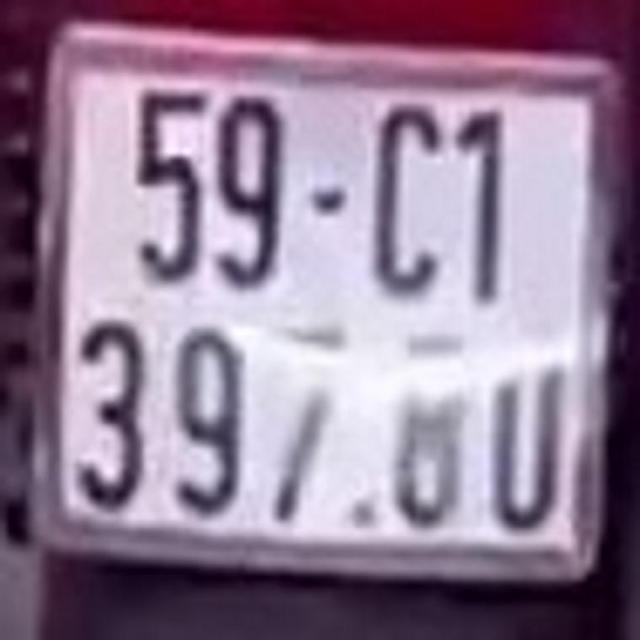0: (487, 309, 572, 542)
1: (448, 81, 526, 322)
3: (66, 297, 150, 514)
5: (126, 67, 212, 290)
7: (264, 310, 352, 535)
8: (392, 320, 473, 529)
9: (206, 73, 292, 304), (168, 299, 250, 519)
C: (362, 88, 452, 305)
